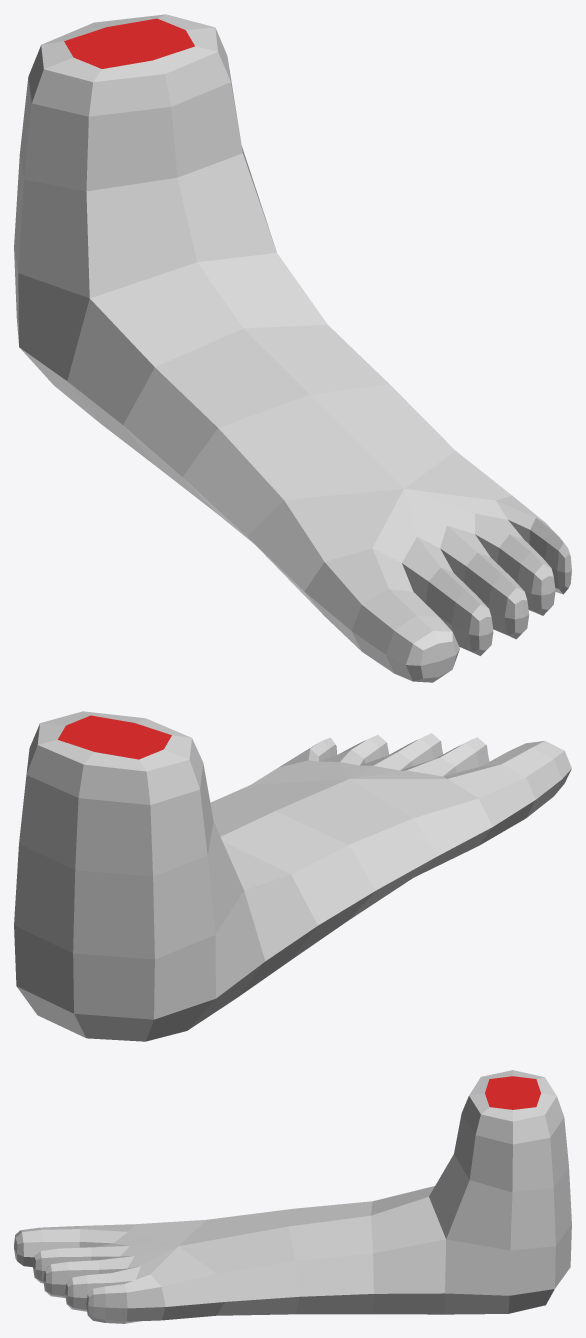
File: foot.fbx
3 renders of one model, top to bottom at view 1: azimuth 30°, elevation 25°; view 2: azimuth 150°, elevation 25°; view 3: azimuth 270°, elevation 25°, orthographic. The views are drawn at different scales.
Parts seen in each view (by area): view 1: Cube; view 2: Cube; view 3: Cube.
Part boxes in pixels (<box>): Cube: <box>14,14,571,682</box>; Cube: <box>14,711,571,1041</box>; Cube: <box>14,1070,571,1323</box>.
Bounding box in the file's own units: 199 × 259 × 633.
